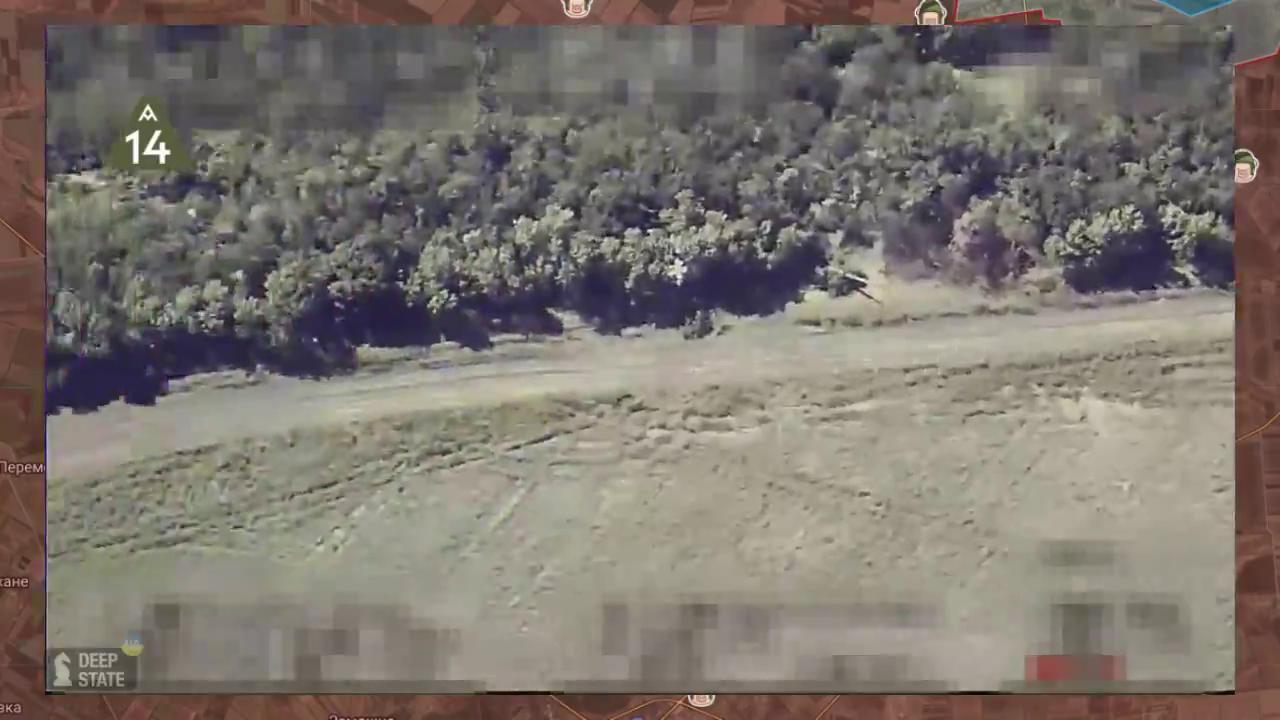tank: (810, 252, 873, 309)
